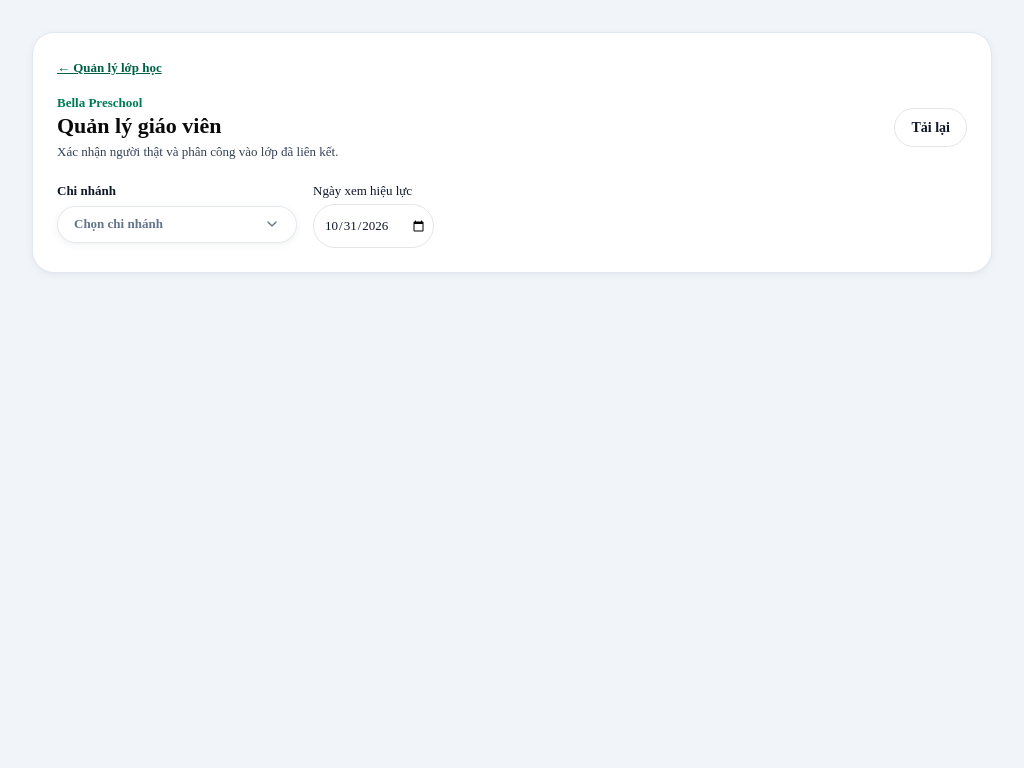
Test case: submits explicit confirmation and reads the persisted list again
Select "Chi nhánh thật" in the dropdown labelled "Chi nhánh" at (177, 215), box x1=57 y1=182 x2=297 y2=248
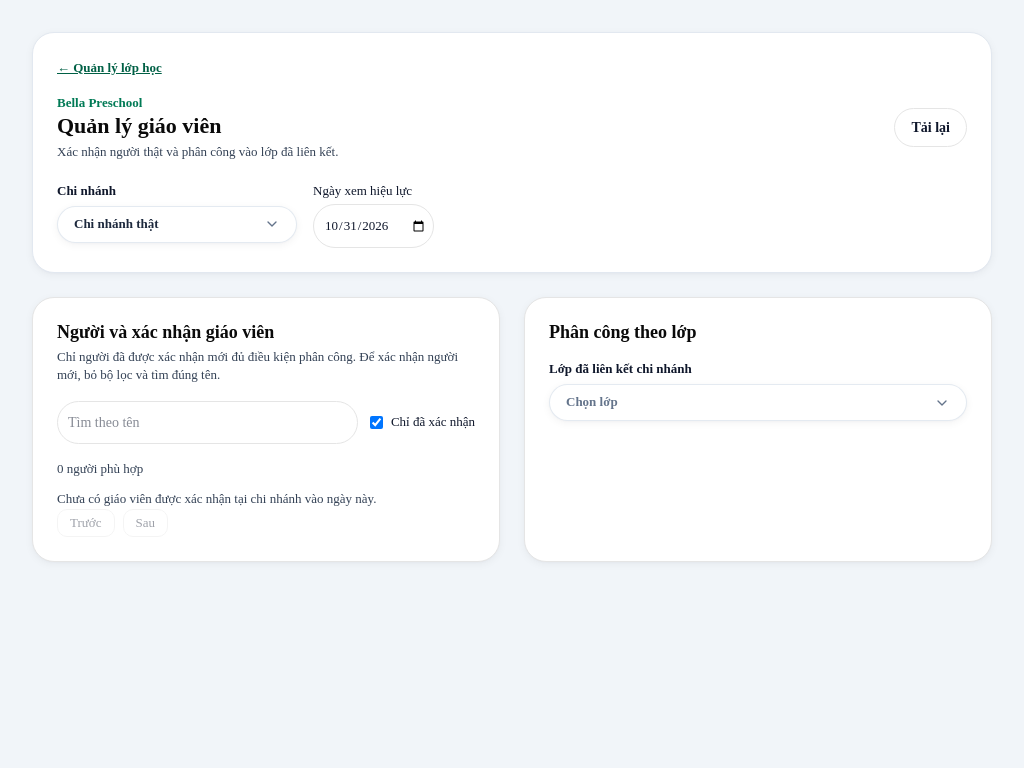
Check: the text "Chưa có giáo viên được xác nhận tại chi nhánh vào ngày này." is shown, box x1=57 y1=491 x2=376 y2=506
Click the checkbox labelled "Chỉ đã xác nhận" at (376, 422), box x1=370 y1=416 x2=383 y2=429
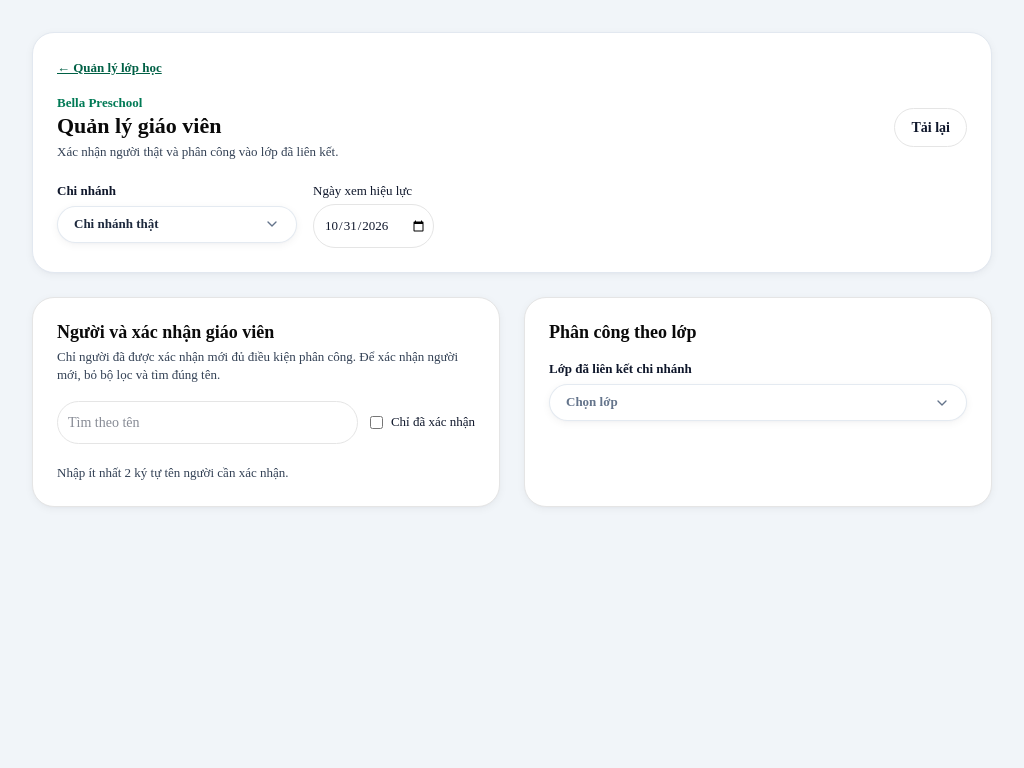
Type "Người" into the field named "Tìm người" at (207, 422), box x1=57 y1=401 x2=358 y2=444
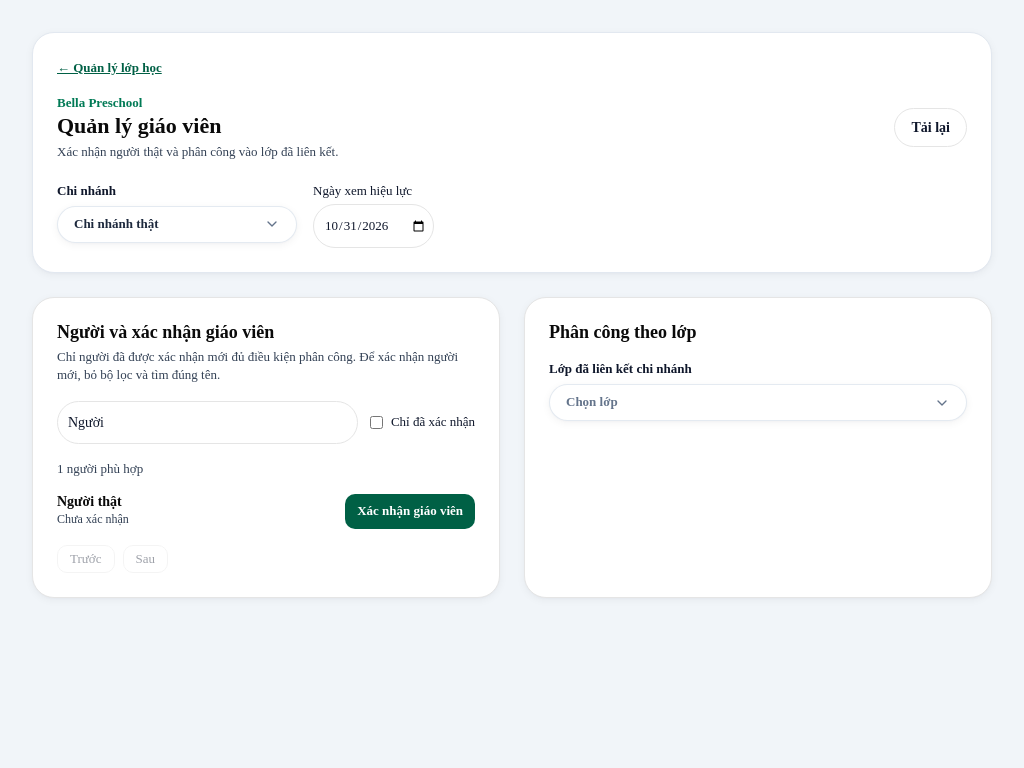
Check: the heading "Người thật" is shown, box x1=57 y1=494 x2=129 y2=511
Click the button "Xác nhận giáo viên" at (410, 512), box x1=345 y1=494 x2=475 y2=529
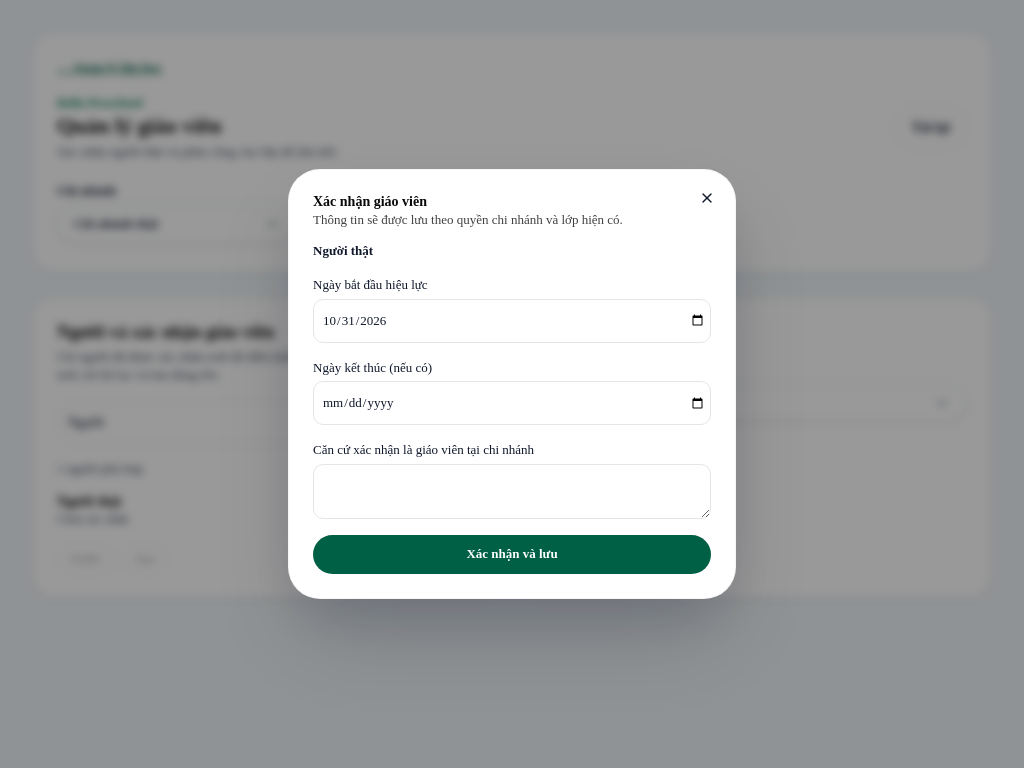
Type "Đã đối chiếu hồ sơ nhân sự" into the text box labelled "Căn cứ xác nhận là giáo viên tại chi nhánh" at (512, 492), box x1=313 y1=464 x2=711 y2=519
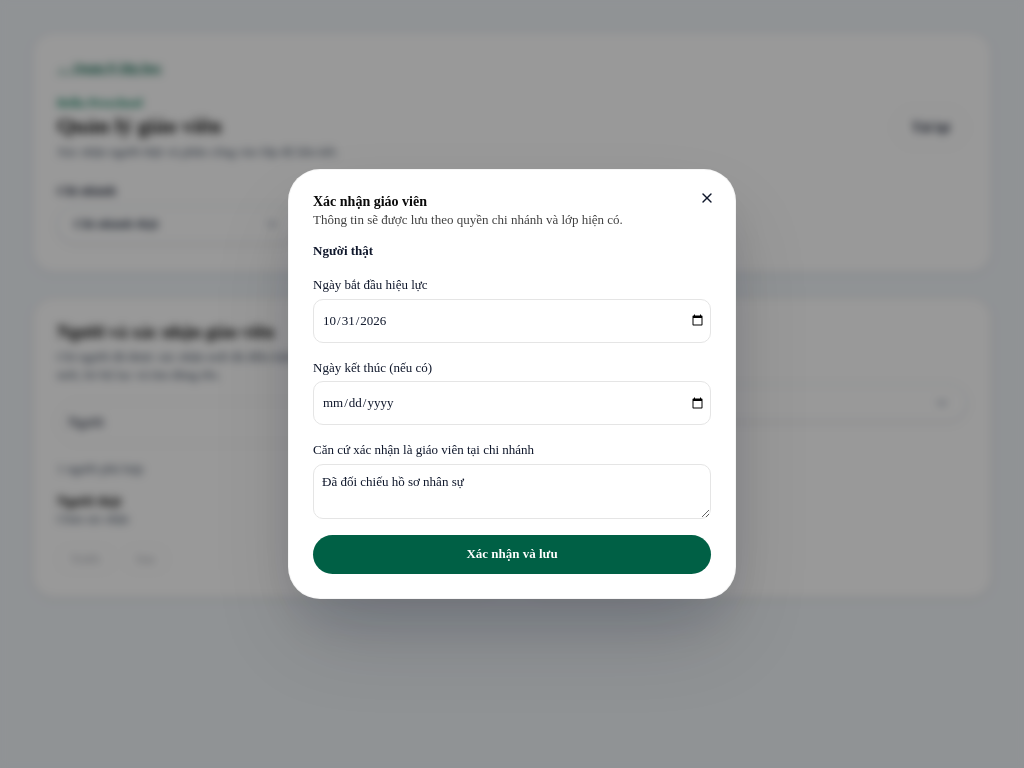
Click the button "Xác nhận và lưu" at (512, 554), box x1=313 y1=535 x2=711 y2=574
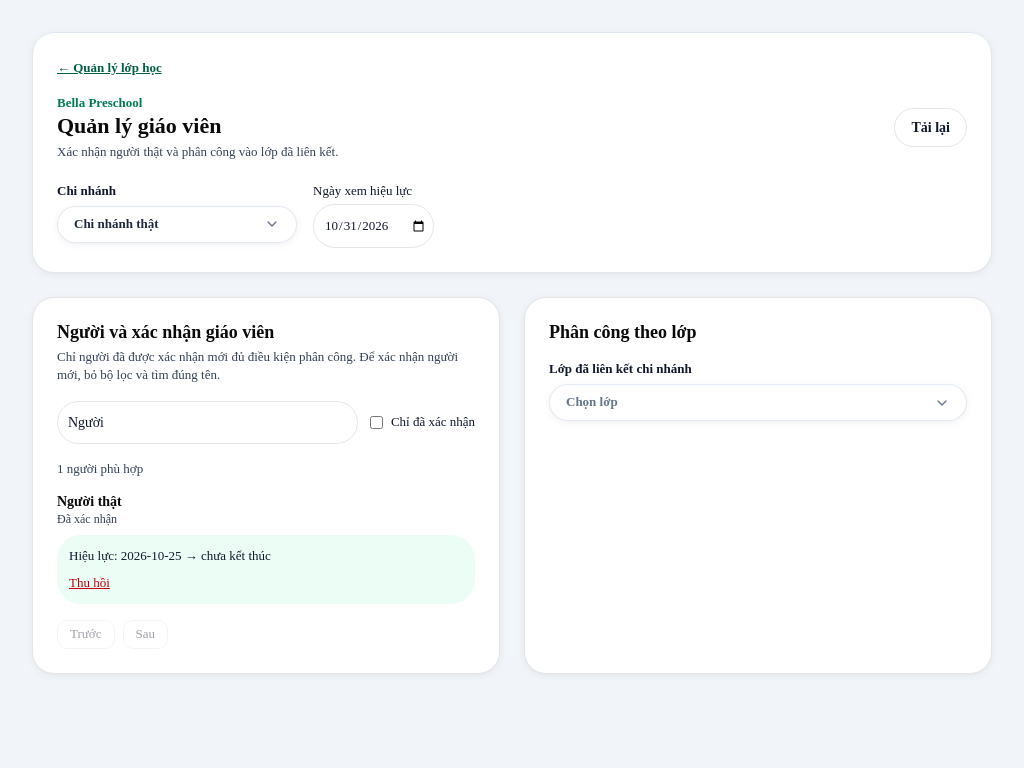
Check: the text "Đã xác nhận" is shown, box x1=57 y1=511 x2=122 y2=527
